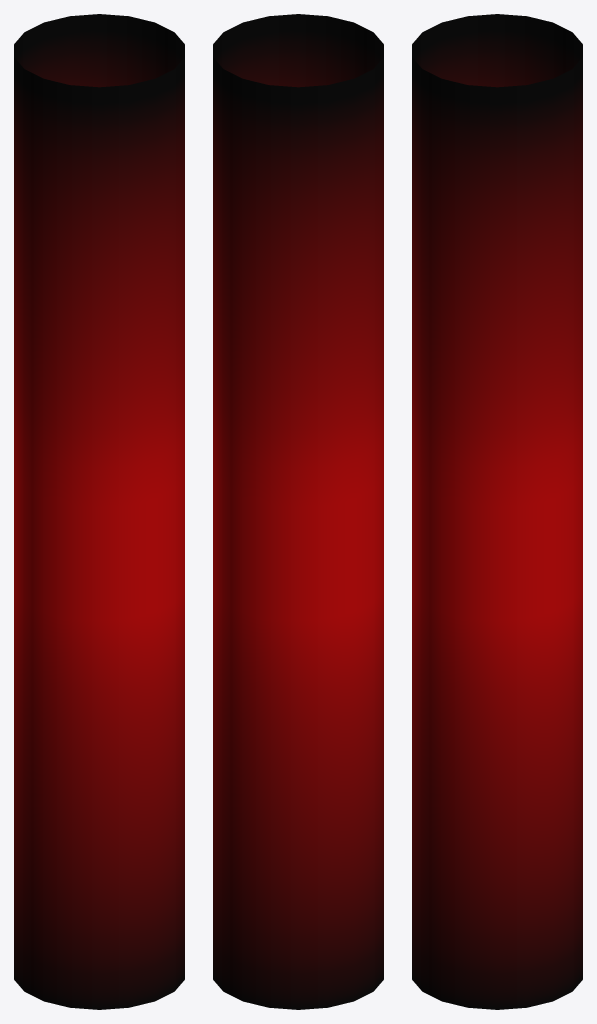
The picture shows the model from 3 angles, left to right: view 1: azimuth 30°, elevation 25°; view 2: azimuth 150°, elevation 25°; view 3: azimuth 270°, elevation 25°; orthographic projection.
Parts seen in each view (by area): view 1: SM_Cylinder_001; view 2: SM_Cylinder_001; view 3: SM_Cylinder_001.
Boxes of the visible parts, left/top/right/bottom form: SM_Cylinder_001: left=14, top=14, right=184, bottom=1009; SM_Cylinder_001: left=213, top=14, right=383, bottom=1009; SM_Cylinder_001: left=412, top=14, right=582, bottom=1009.
Size of the model in its own units: 35.33 by 207 by 34.8.
